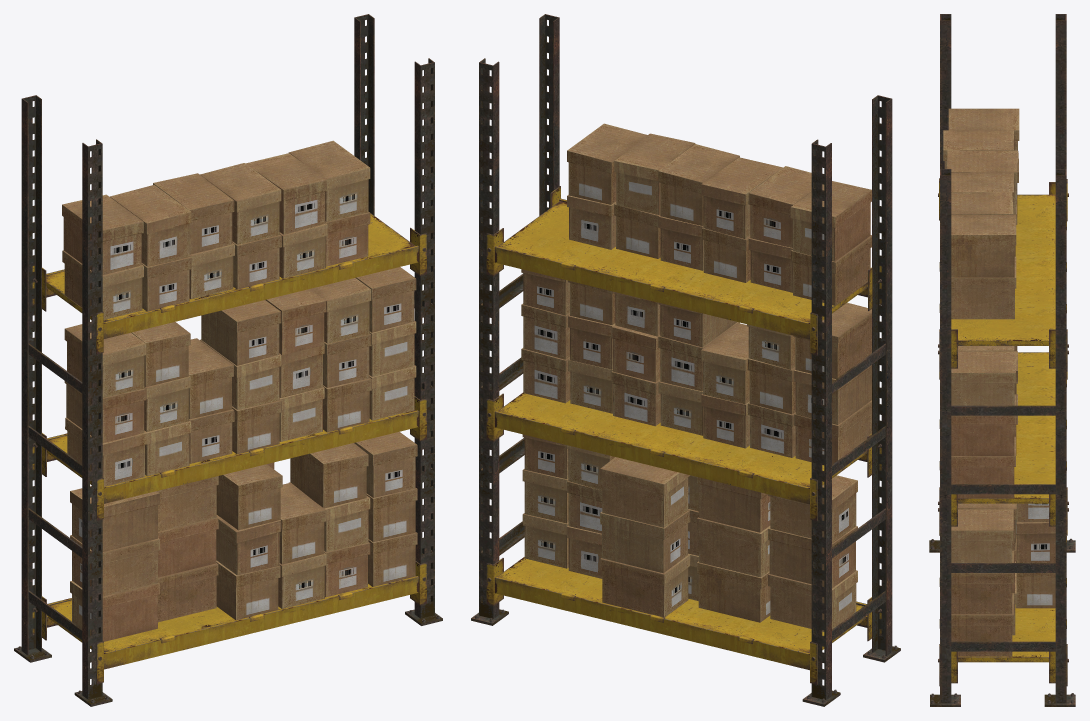
The model's file is 196_DocumentStorageShelf.fbx.
3 views of the same model, side by side, from view 1: azimuth 30°, elevation 25°; view 2: azimuth 150°, elevation 25°; view 3: azimuth 270°, elevation 25° (orthographic). The views are drawn at different scales.
Parts seen in each view (by area): view 1: LOD_1_Group_0_Sub_1__sm30_196_DocumentStorageShelf01A_A_Mat; view 2: LOD_1_Group_0_Sub_1__sm30_196_DocumentStorageShelf01A_A_Mat; view 3: LOD_1_Group_0_Sub_1__sm30_196_DocumentStorageShelf01A_A_Mat.
Part boxes in pixels (x1,y1,x2,y2): LOD_1_Group_0_Sub_1__sm30_196_DocumentStorageShelf01A_A_Mat: (14,14,442,706); LOD_1_Group_0_Sub_1__sm30_196_DocumentStorageShelf01A_A_Mat: (471,14,900,706); LOD_1_Group_0_Sub_1__sm30_196_DocumentStorageShelf01A_A_Mat: (929,14,1075,706).
Bounding box in the file's own units: 2.38 × 3.58 × 0.8958.
